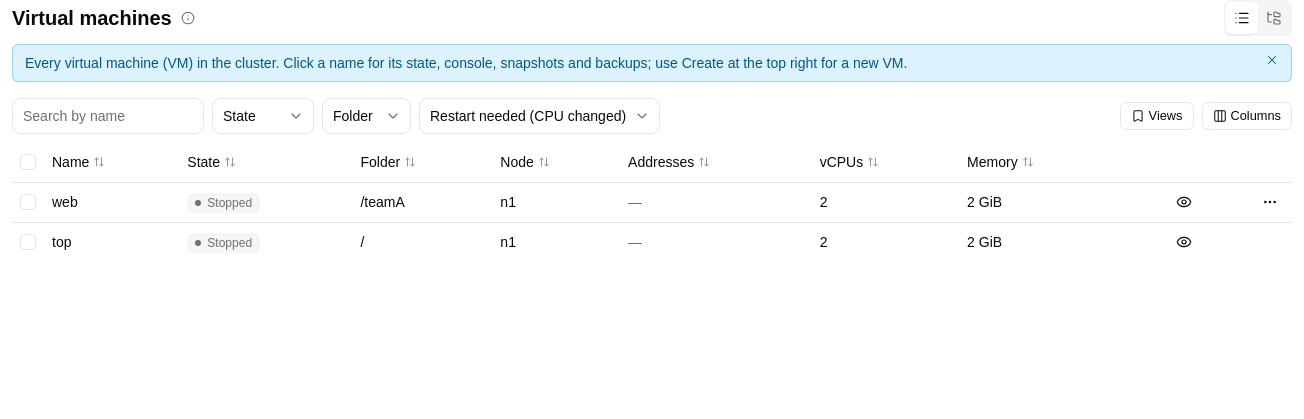
Test case: counts the bulk bar per VM and hides what the user cannot do
Check: the link "top" is shown, box [52,234,72,250]
Click the button named "Actions for web": click(1270, 202) [1256,188,1284,216]
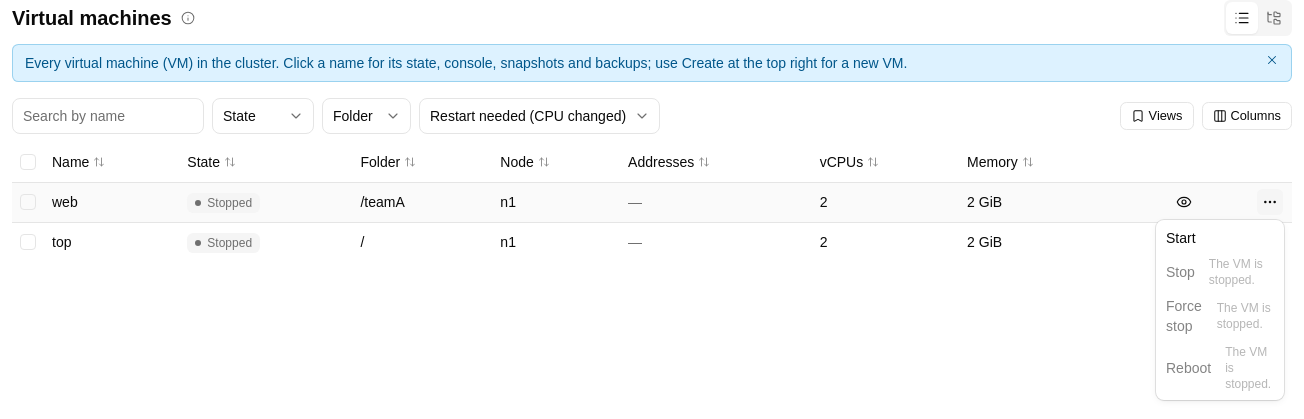
Check: the menu item "Reboot The VM is stopped." is shown, box [1160,340,1280,396]
Press Escape
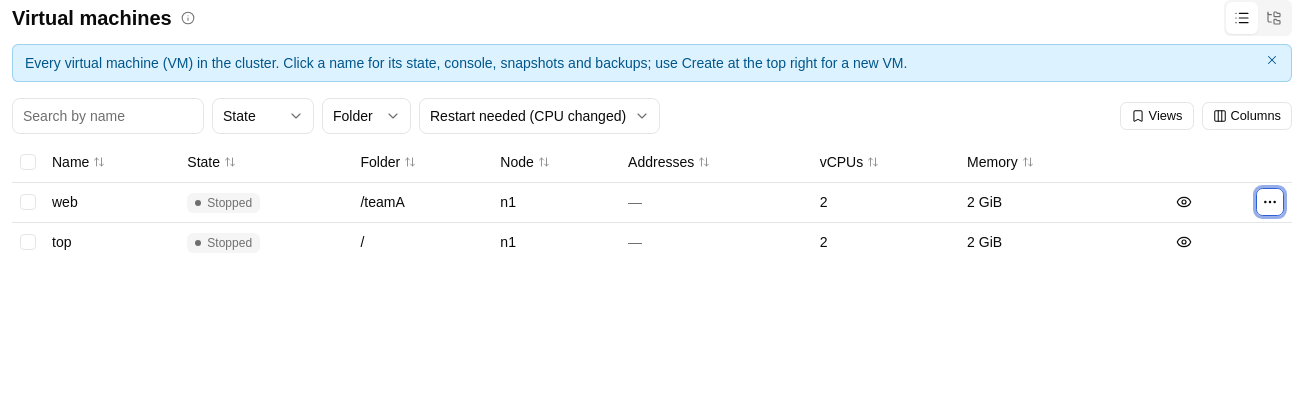
Click the checkbox named "Select all": click(28, 162) [20,154,36,170]
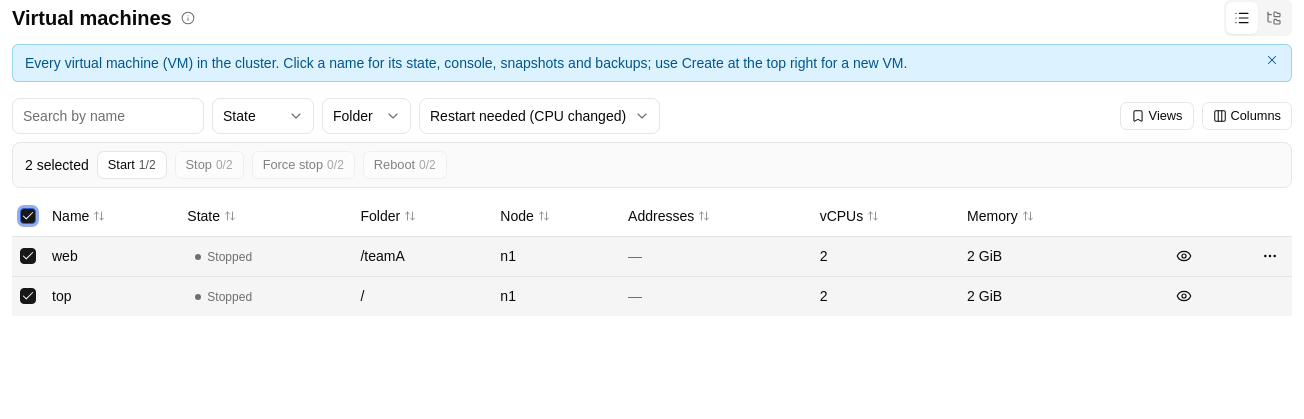
Check: the column heading "Folder" is shown, box [352,196,492,236]
Check: the button with aria-label "Start (1 possible, 1 not possible)" is enabled, box [97,151,167,179]
